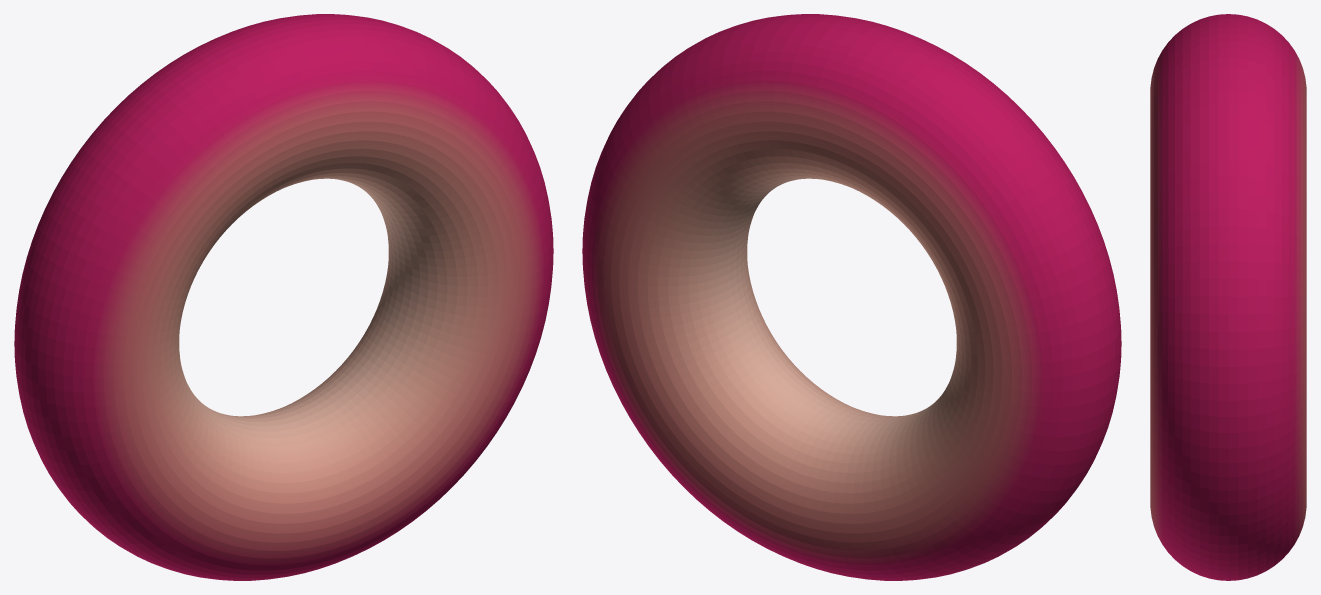
The picture shows the model from 3 angles, left to right: view 1: azimuth 30°, elevation 25°; view 2: azimuth 150°, elevation 25°; view 3: azimuth 270°, elevation 25°; orthographic projection. The views are drawn at different scales.
Parts seen in each view (by area): view 1: world; view 2: world; view 3: world.
Boxes of the visible parts, left/top/right/bottom form: world: left=14, top=14, right=553, bottom=580; world: left=582, top=14, right=1121, bottom=580; world: left=1150, top=14, right=1306, bottom=580.
Size of the model in its own units: 29.47 by 29.47 by 8.12.
